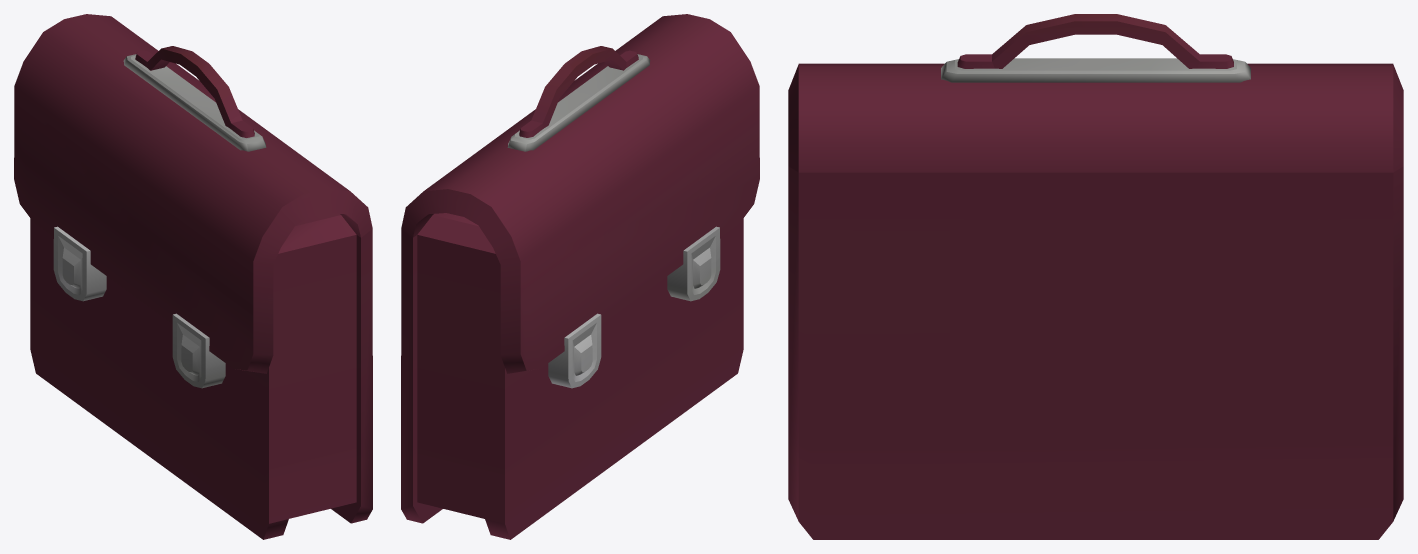
Rendered from Suitcase_1_1_H.fbx.
3 views of the same model, side by side, from view 1: azimuth 30°, elevation 25°; view 2: azimuth 150°, elevation 25°; view 3: azimuth 270°, elevation 25° (orthographic). The views are drawn at different scales.
Visible parts, largest first — view 1: Suitcase_1_1_H; view 2: Suitcase_1_1_H; view 3: Suitcase_1_1_H.
Part boxes in pixels (x1=…): Suitcase_1_1_H: x1=14, y1=14, x2=372, y2=539; Suitcase_1_1_H: x1=401, y1=14, x2=759, y2=539; Suitcase_1_1_H: x1=788, y1=14, x2=1403, y2=539.
Bounding box in the file's own units: 16.04 × 47.79 × 54.73.
